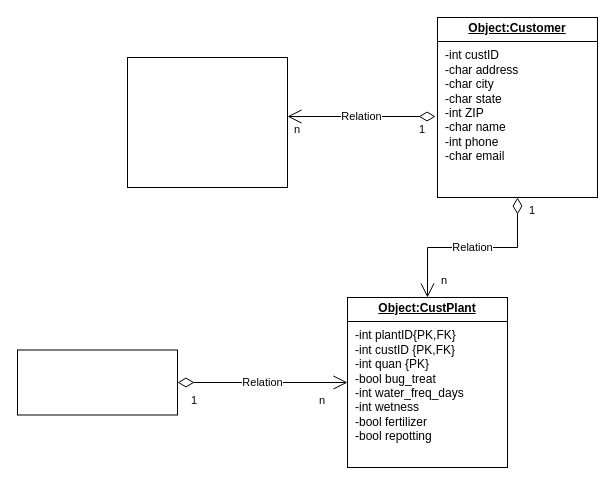
Image size: 615x485. Some labels were removed from this diagram. The shapes that lost their labels are listed below. From the top down, each one's box as (x1, y1, x2, y2) in pixels, then its label:
(126, 56, 288, 188): Object:Appointment -Date date -Time time -bool firstVisit -int custID
(16, 349, 178, 415): Object:Plant -int plantID {PK} -char species
